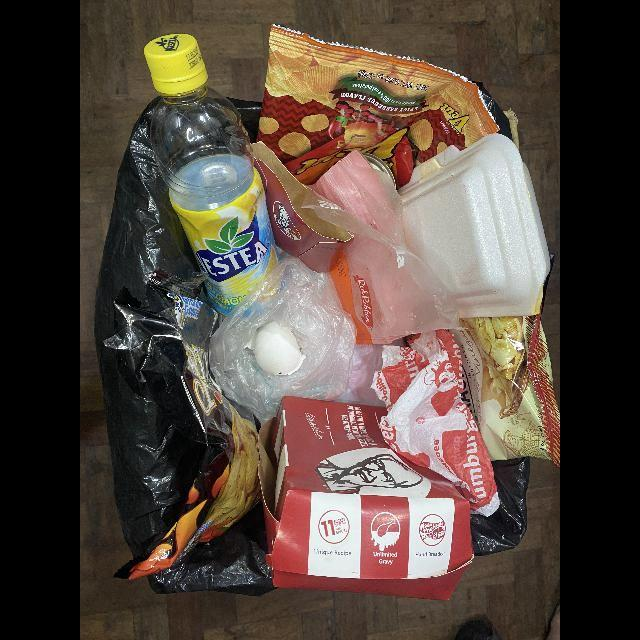cardboard: (244, 140, 356, 279)
food_wrapper: (115, 290, 259, 579), (257, 26, 501, 190), (298, 148, 459, 349), (369, 328, 501, 517), (449, 317, 560, 464)
plastic_bag: (210, 257, 358, 419)
plastic_bottle: (144, 34, 280, 318)
